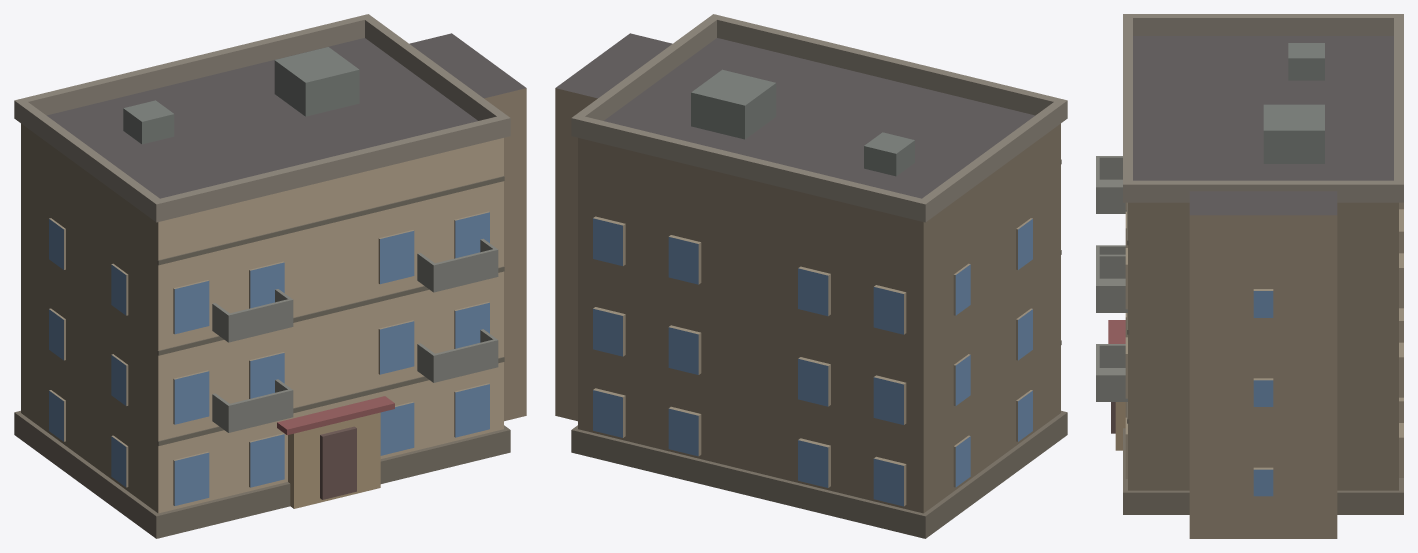
The model's file is Apartment.fbx.
The picture shows the model from 3 angles, left to right: view 1: azimuth 30°, elevation 25°; view 2: azimuth 150°, elevation 25°; view 3: azimuth 270°, elevation 25°; orthographic projection.
Visible parts, largest first — view 1: Apartment; view 2: Apartment; view 3: Apartment.
Boxes of the visible parts, x1,y1,x2,y2 form: Apartment: (14,14,526,538); Apartment: (555,14,1067,538); Apartment: (1096,14,1403,538).
Bounding box in the file's own units: 1890 × 1550 × 1250.
